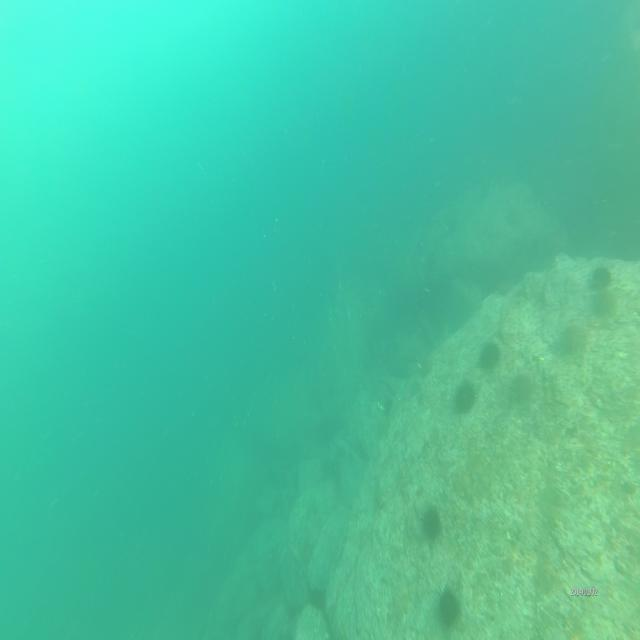echinus: (434, 586, 462, 626), (450, 379, 476, 412), (425, 499, 444, 539), (587, 261, 613, 288), (480, 334, 496, 367)
